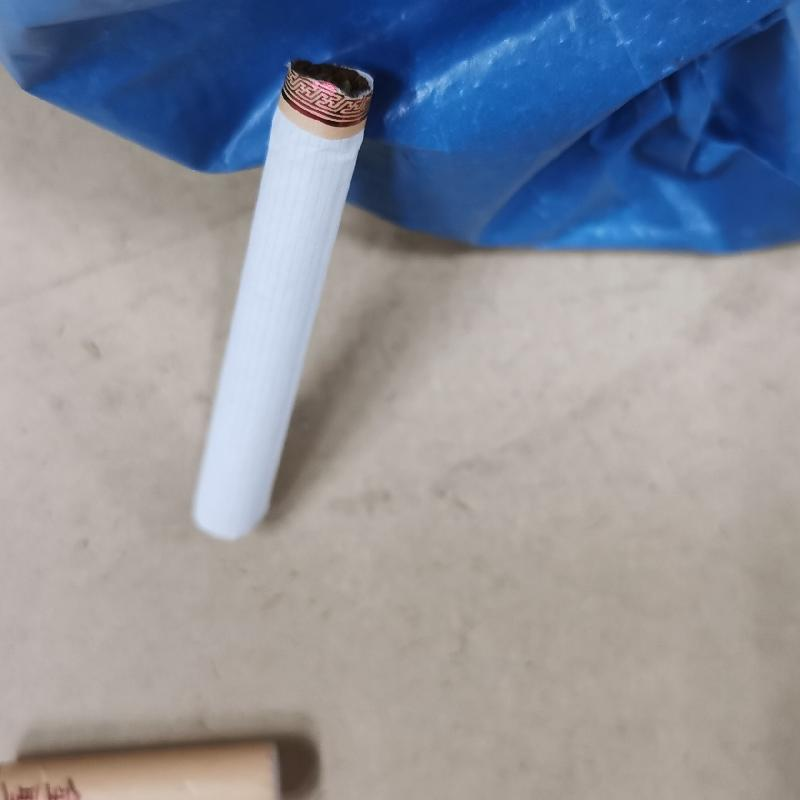cigarette: (186, 59, 378, 547)
